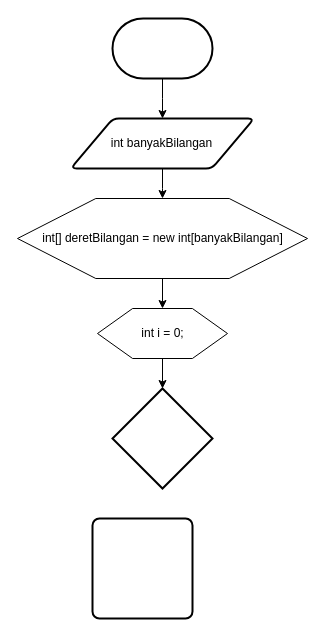
Some shapes in this 325 by 636 pixel diagram are drawn without their labels. Each missing label, with the centre of its shape:
"i < n" belongs at pixel 162 438.
"Start" belongs at pixel 162 48.
